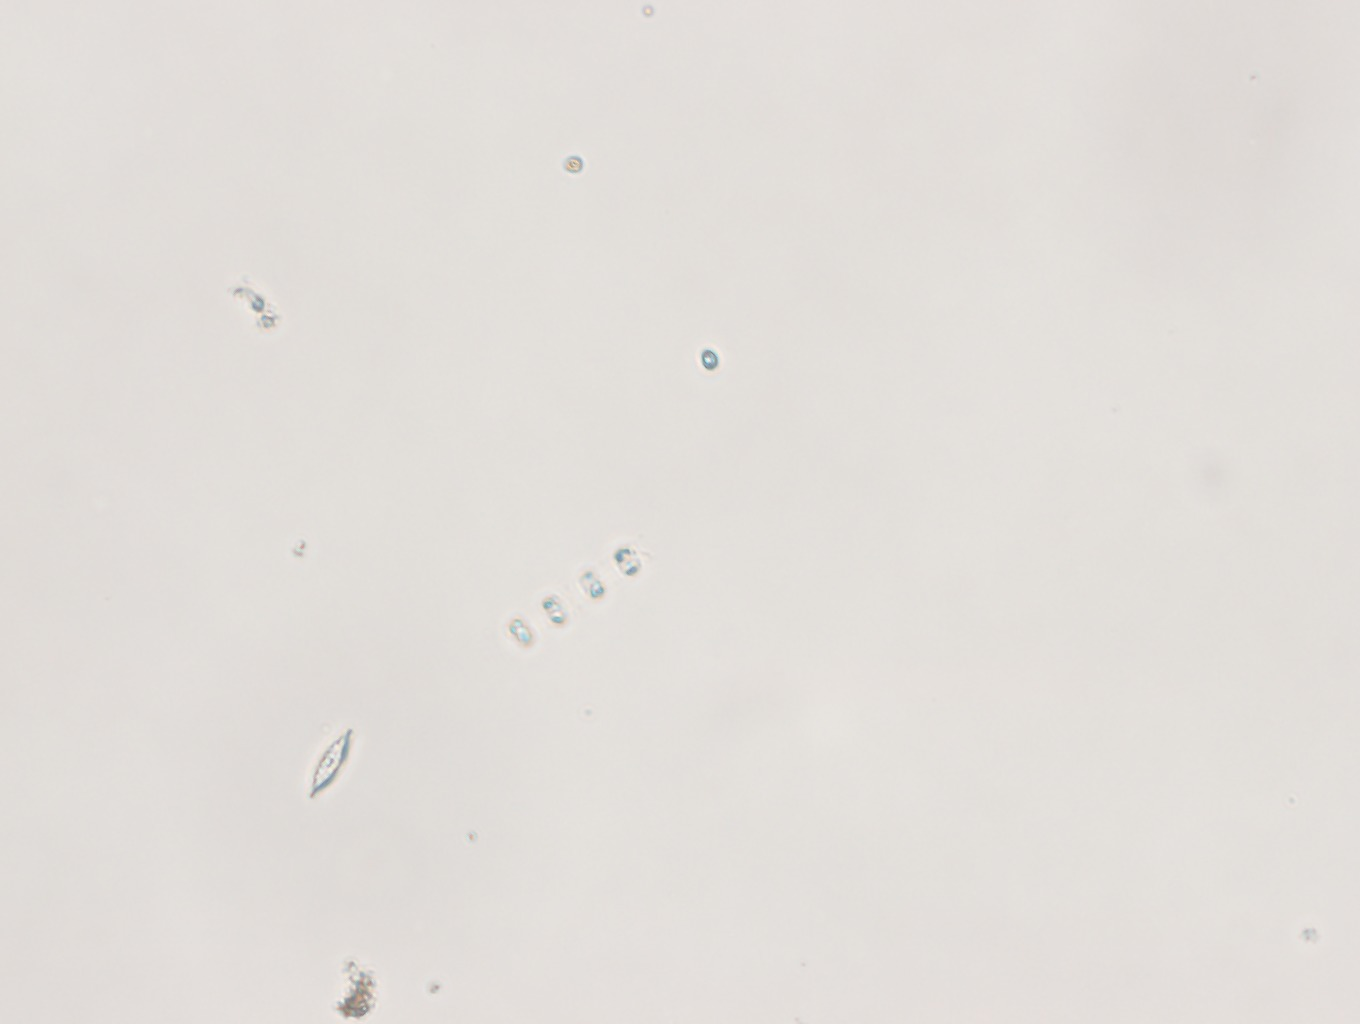navicula: (299, 729, 361, 802)
skeletonema: (479, 525, 670, 657)
